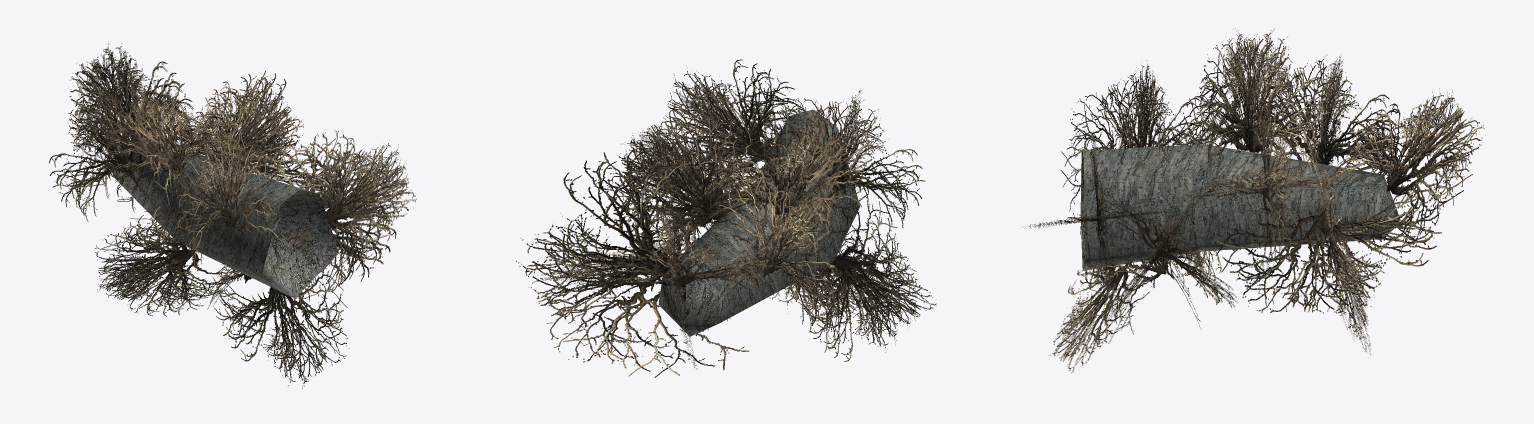
Rendered from poi_all_lair_bramble_large_l3.fbx.
3 views of the same model, side by side, from view 1: azimuth 30°, elevation 25°; view 2: azimuth 150°, elevation 25°; view 3: azimuth 270°, elevation 25° (orthographic). The views are drawn at different scales.
Parts seen in each view (by area): view 1: mesh_node; view 2: mesh_node; view 3: mesh_node.
Part boxes in pixels (box(x1,y1,x2,y2)): mesh_node: box(49, 43, 416, 388); mesh_node: box(516, 59, 936, 377); mesh_node: box(1022, 28, 1485, 372).
Bounding box in the file's own units: 5.92 × 5.07 × 7.17.
2 materials, 2 textured.
